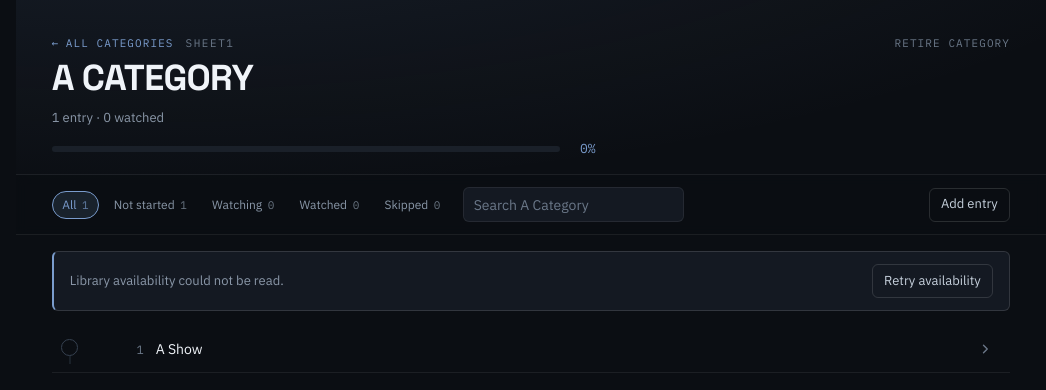
Test: category playback overlay › keeps workbook editing usable when availability fails and offers an explicit retry
Expected: the message "Library availability could not be read." is shown, x1=70 y1=272 x2=284 y2=291
Expected: the button named "Edit details for A Show" is shown, x1=972 y1=337 x2=998 y2=362
Click the button "Retry availability": click(932, 281) x1=872 y1=264 x2=993 y2=298
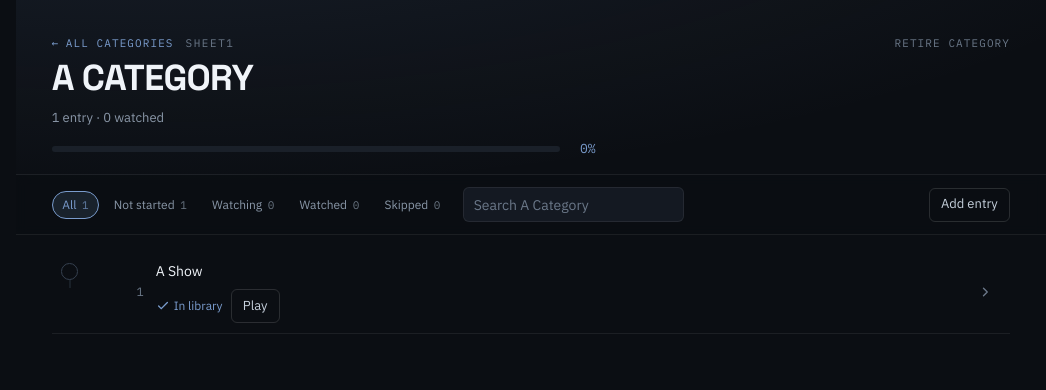
Expected: the button with aria-label "Play A Show" is shown, x1=231 y1=289 x2=280 y2=323
